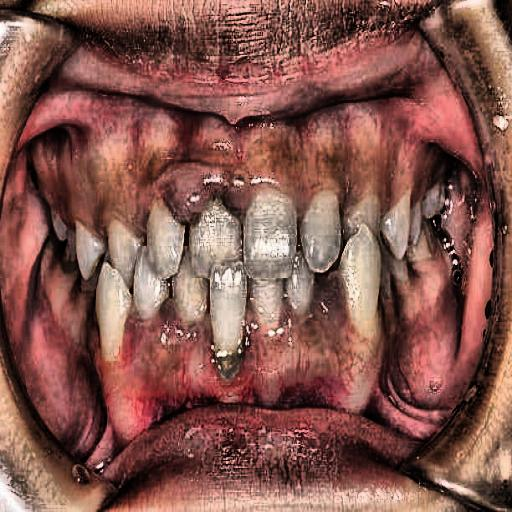Gingivitis: (25, 120, 288, 230)
